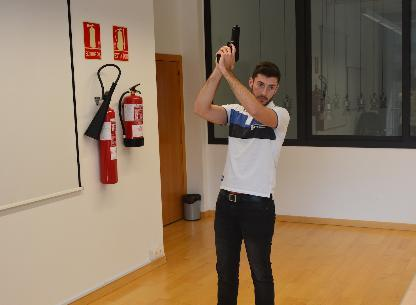pistol: (217, 23, 240, 63)
